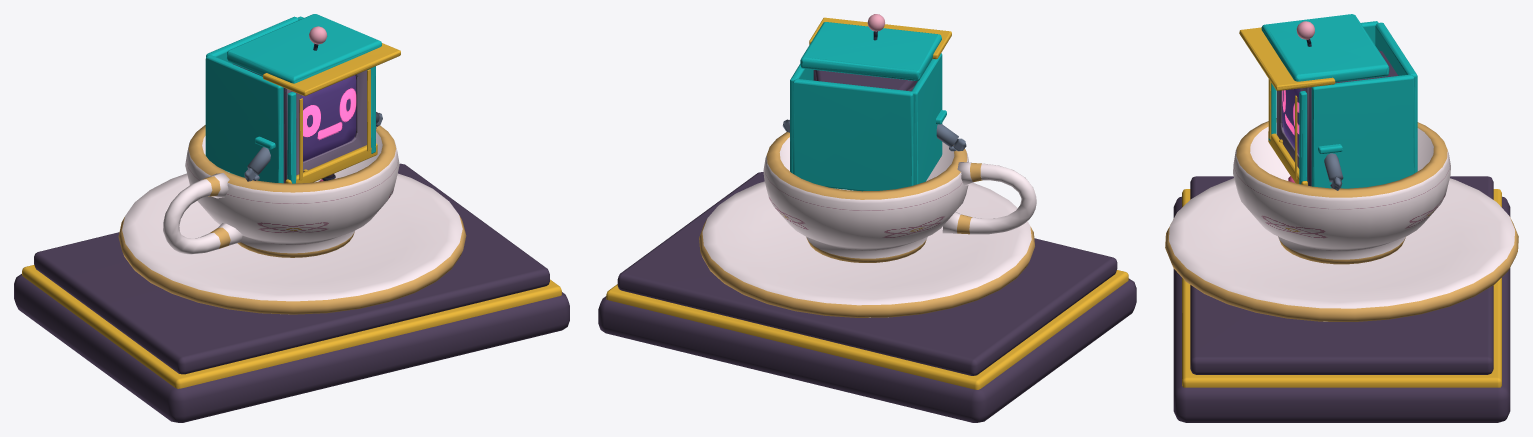
The model's file is kart.outfit.pit-crew.glb.
3 renders of one model, left to right at view 1: azimuth 30°, elevation 25°; view 2: azimuth 150°, elevation 25°; view 3: azimuth 270°, elevation 25°, orthographic. The views are drawn at different scales.
Visible parts, largest first — view 1: emi_teacup_mesh, stand_display_top, stand_display_base, stand_brass_band, jacket_side.001, visor_crown, cap_brim, waist_band, front_open_edge.001, jacket_back; view 2: emi_teacup_mesh, stand_display_top, stand_display_base, jacket_back, stand_brass_band, visor_crown, jacket_side.001, cap_brim, jacket_side; view 3: emi_teacup_mesh, stand_display_top, stand_display_base, jacket_side, stand_brass_band, visor_crown, cap_brim, jacket_back, front_open_edge, waist_band.
Boxes of the visible parts, box(x1,y1,x2,y2) form: emi_teacup_mesh: box(118, 26, 466, 314); stand_display_top: box(34, 163, 549, 374); stand_display_base: box(14, 274, 569, 422); stand_brass_band: box(22, 265, 561, 388); jacket_side.001: box(205, 55, 283, 183); visor_crown: box(226, 14, 381, 83); cap_brim: box(263, 43, 400, 96); waist_band: box(285, 143, 377, 183); front_open_edge.001: box(287, 92, 296, 183); jacket_back: box(206, 16, 298, 63); emi_teacup_mesh: box(699, 14, 1036, 317); stand_display_top: box(617, 172, 1117, 375); stand_display_base: box(598, 278, 1136, 422); jacket_back: box(793, 78, 913, 191); stand_brass_band: box(606, 270, 1128, 389); visor_crown: box(800, 22, 941, 80); jacket_side.001: box(912, 53, 942, 185); cap_brim: box(809, 17, 951, 59); jacket_side: box(790, 64, 813, 173); emi_teacup_mesh: box(1165, 21, 1518, 321); stand_display_top: box(1190, 176, 1493, 374); stand_display_base: box(1173, 196, 1510, 422); jacket_side: box(1311, 74, 1414, 188); stand_brass_band: box(1182, 189, 1501, 387); visor_crown: box(1261, 14, 1389, 82); cap_brim: box(1239, 27, 1335, 90); jacket_back: box(1375, 22, 1417, 172); front_open_edge: box(1299, 91, 1307, 184); waist_band: box(1268, 131, 1307, 185).
Size of the model in its own units: 0.64 by 0.4647 by 0.48.
Materials: 4 (2 with a texture image).
